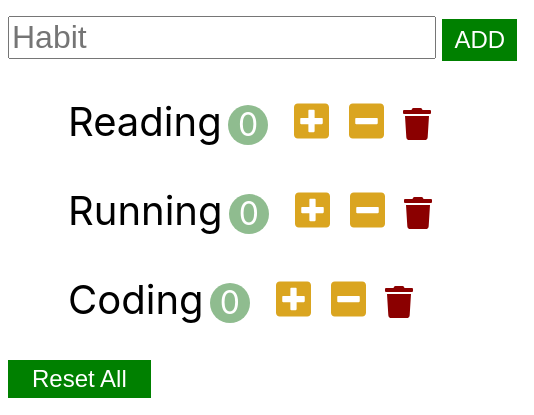
Test case: Habit Tracker › increase count
The width and height of the screenshot is (534, 415).
What coordinates should you click on to do the following:
click the button titled "increase" in the row of "Reading"
I would click on:
 (312, 123)
Its box is [288,99,335,146].
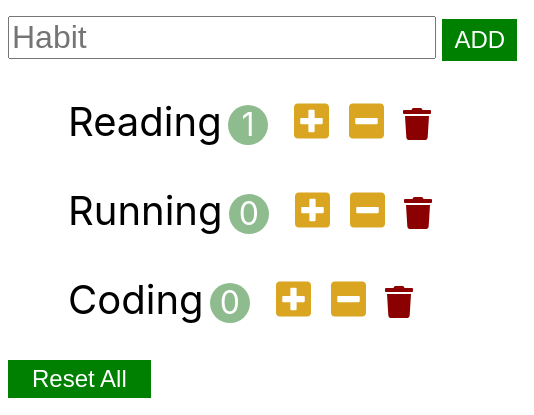
Now the text with test id "habit-count" reads "1", box [228,105,268,145]
